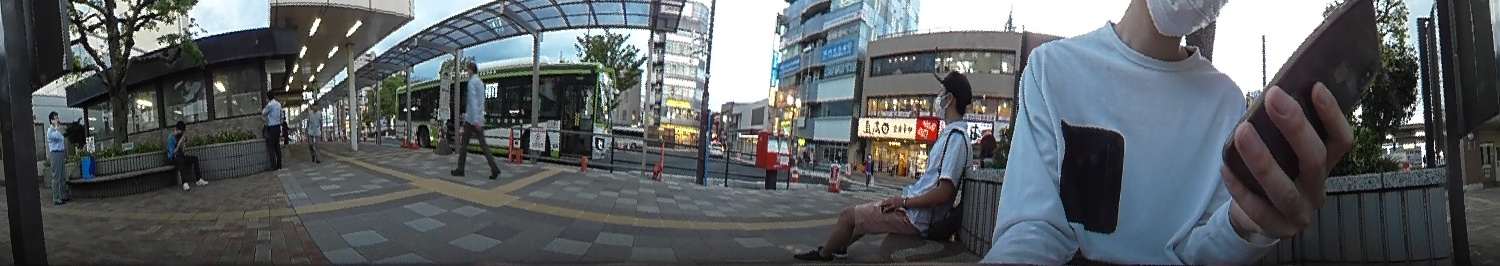difficult_person: (862, 149, 874, 186)
person: (801, 70, 977, 257), (450, 61, 502, 181), (164, 121, 208, 189), (256, 89, 285, 171), (47, 108, 71, 204), (304, 97, 323, 165)
